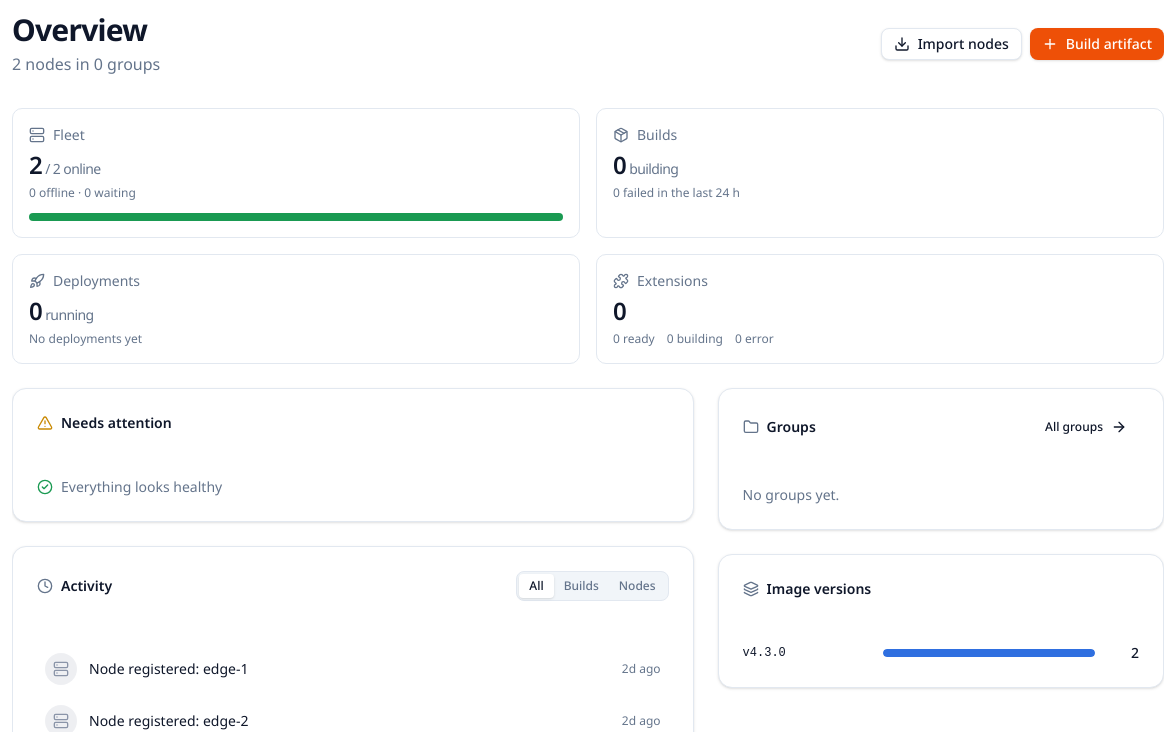
Dashboard › hides node events when the Builds filter is chosen
Check: the text "Node registered: edge-1" is shown, box [89,659,248,678]
Click the button "Builds" at (581, 586), box [554,574,609,598]
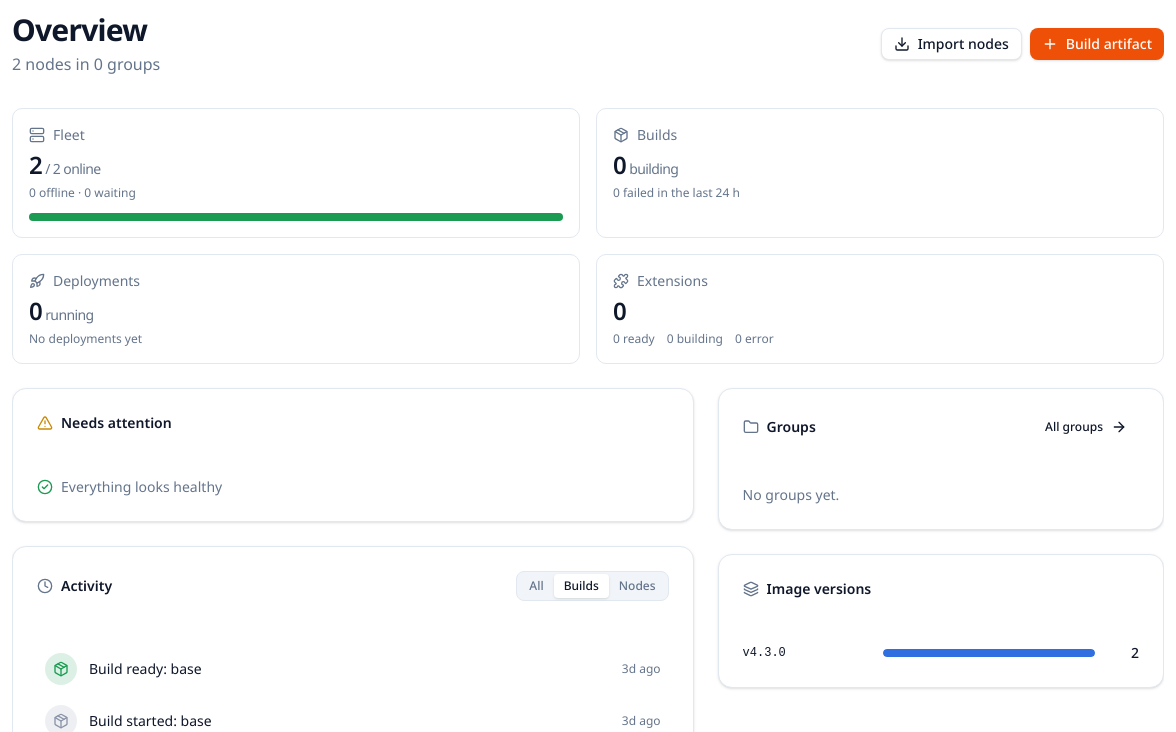
Check: the text "Build ready: base" is shown, box [89,659,202,678]
Check: the link "Node registered: edge-1" is gone
Click the button "Nodes" at (637, 586), box [609,574,666,598]
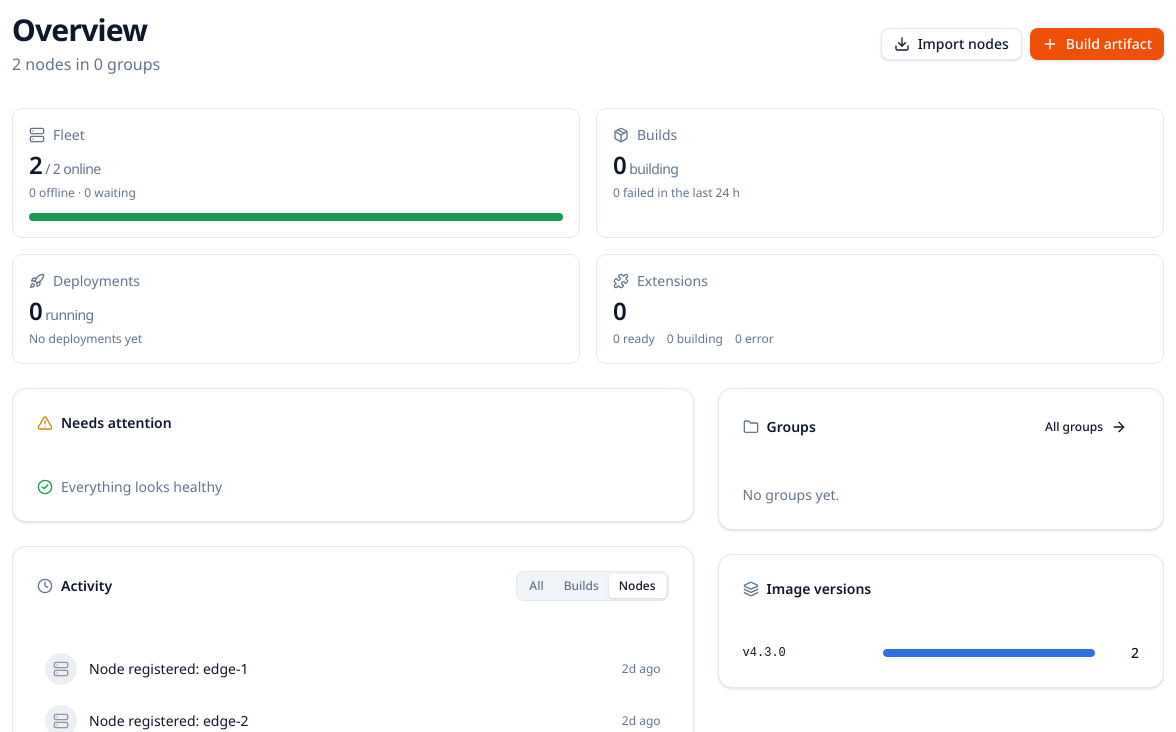
Check: the text "Node registered: edge-1" is shown, box [89,659,248,678]
Check: the link "Build ready: base" is gone
